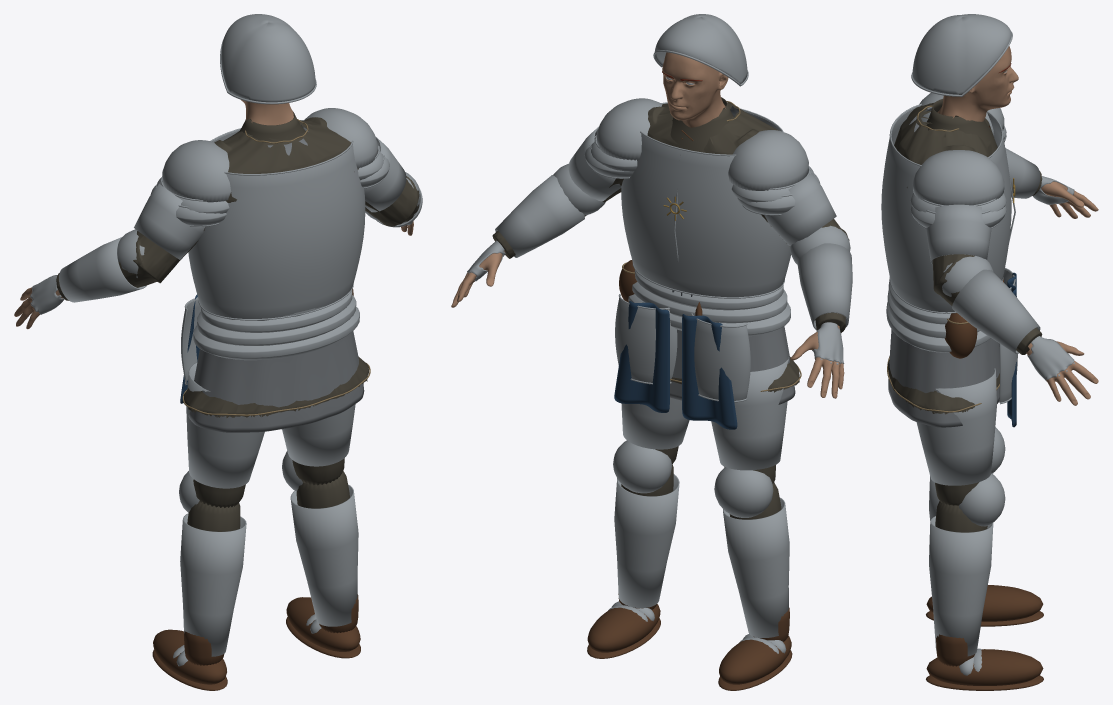
Rendered from knight.glb.
3 views of the same model, side by side, from view 1: azimuth 30°, elevation 25°; view 2: azimuth 150°, elevation 25°; view 3: azimuth 270°, elevation 25° (orthographic).
Visible parts, largest first — view 1: Steel_cuirass_static, Mail_haubergeon_static, Padded_undergarment_static, Open_face_bascinet_static, Steel_greave_r_static, Steel_greave_l_static, Steel_cuisse_l_static, Domed_pauldron_l_static, Steel_vambrace_l_static, Steel_cuisse_r_static, Steel_rerebrace_l_static, Articulated_fauld_03_static (+17 smaller); view 2: Steel_cuirass_static, Steel_greave_l_static, Steel_greave_r_static, knight_FaceAndHands_static, Steel_cuisse_l_static, Padded_undergarment_static, Domed_pauldron_l_static, Steel_vambrace_r_static, Open_face_bascinet_static, Tasset_l_static, Steel_vambrace_l_static, Split_heraldic_skirt.001_static (+21 smaller); view 3: Steel_cuirass_static, Steel_greave_r_static, Open_face_bascinet_static, Steel_cuisse_r_static, Mail_haubergeon_static, Padded_undergarment_static, knight_FaceAndHands_static, Domed_pauldron_r_static, Steel_vambrace_r_static, Steel_rerebrace_r_static, Turnshoe_r_static, Turnshoe_l_static (+22 smaller).
Boxes of the visible parts, x1=… form: Steel_cuirass_static: x1=188, y1=130, x2=365, y2=318; Mail_haubergeon_static: x1=188, y1=125, x2=364, y2=432; Padded_undergarment_static: x1=56, y1=117, x2=419, y2=417; Open_face_bascinet_static: x1=221, y1=14, x2=315, y2=102; Steel_greave_r_static: x1=290, y1=484, x2=358, y2=626; Steel_greave_l_static: x1=180, y1=513, x2=246, y2=656; Steel_cuisse_l_static: x1=186, y1=362, x2=264, y2=488; Domed_pauldron_l_static: x1=162, y1=140, x2=231, y2=202; Steel_vambrace_l_static: x1=59, y1=237, x2=146, y2=302; Steel_cuisse_r_static: x1=282, y1=404, x2=355, y2=466; Steel_rerebrace_l_static: x1=134, y1=183, x2=204, y2=259; Articulated_fauld_03_static: x1=193, y1=306, x2=359, y2=360; Steel_cuirass_static: x1=621, y1=111, x2=791, y2=297; Steel_greave_l_static: x1=723, y1=497, x2=789, y2=637; Steel_greave_r_static: x1=614, y1=474, x2=679, y2=608; knight_FaceAndHands_static: x1=451, y1=52, x2=844, y2=398; Steel_cuisse_l_static: x1=711, y1=357, x2=788, y2=470; Padded_undergarment_static: x1=492, y1=102, x2=849, y2=392; Domed_pauldron_l_static: x1=728, y1=130, x2=808, y2=190; Steel_vambrace_r_static: x1=495, y1=175, x2=584, y2=257; Open_face_bascinet_static: x1=654, y1=14, x2=747, y2=83; Tasset_l_static: x1=694, y1=320, x2=750, y2=400; Steel_vambrace_l_static: x1=797, y1=243, x2=852, y2=329; Split_heraldic_skirt.001_static: x1=682, y1=314, x2=737, y2=429; Steel_cuirass_static: x1=881, y1=105, x2=1011, y2=312; Steel_greave_r_static: x1=929, y1=516, x2=993, y2=656; Open_face_bascinet_static: x1=912, y1=14, x2=1011, y2=94; Steel_cuisse_r_static: x1=916, y1=368, x2=996, y2=485; Mail_haubergeon_static: x1=888, y1=107, x2=999, y2=427; Padded_undergarment_static: x1=888, y1=102, x2=1042, y2=414; knight_FaceAndHands_static: x1=937, y1=46, x2=1098, y2=405; Domed_pauldron_r_static: x1=912, y1=150, x2=1004, y2=205; Steel_vambrace_r_static: x1=952, y1=269, x2=1040, y2=353; Steel_rerebrace_r_static: x1=926, y1=204, x2=991, y2=264; Turnshoe_r_static: x1=926, y1=649, x2=1043, y2=685; Turnshoe_l_static: x1=926, y1=585, x2=1043, y2=621.
Bounding box in the file's own units: 1.2 × 1.89 × 0.5861.
